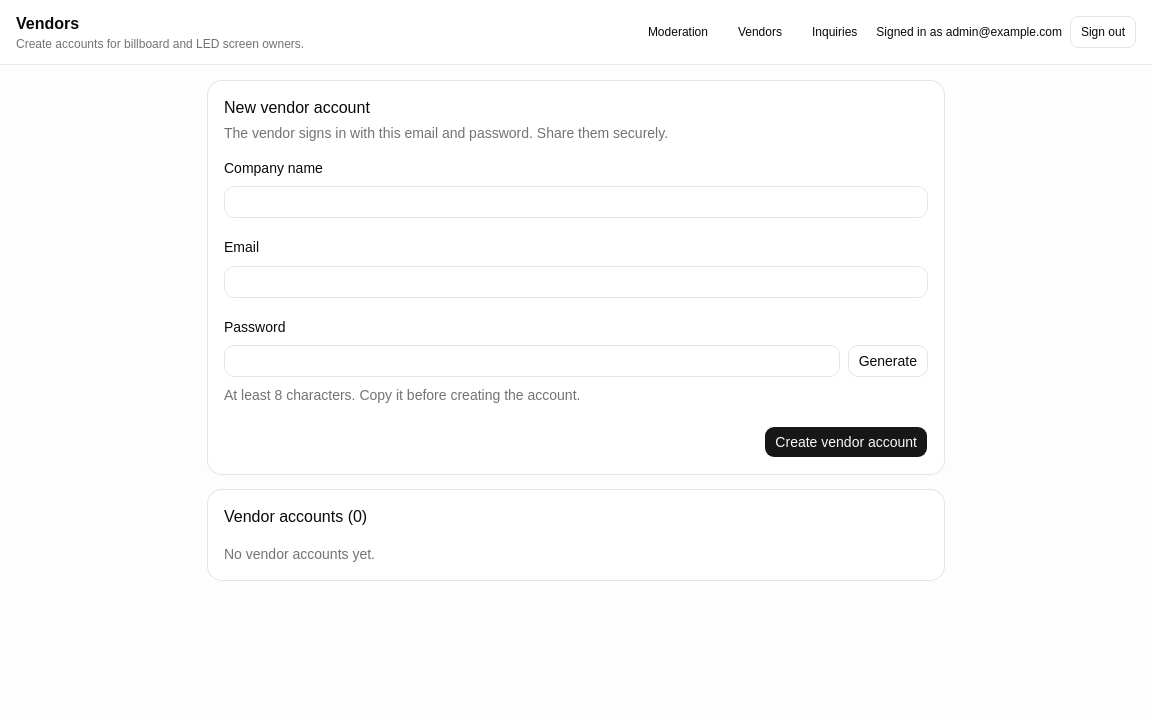
Scenario: AdminVendorsPage › validates with the shared schema before sending anything
The image size is (1152, 720).
Expected: the text "No vendor accounts yet." is shown, x1=224 y1=546 x2=375 y2=562
Type "Reklama Plus" into the field labelled "Company name" at (576, 202), box x1=224 y1=186 x2=928 y2=218
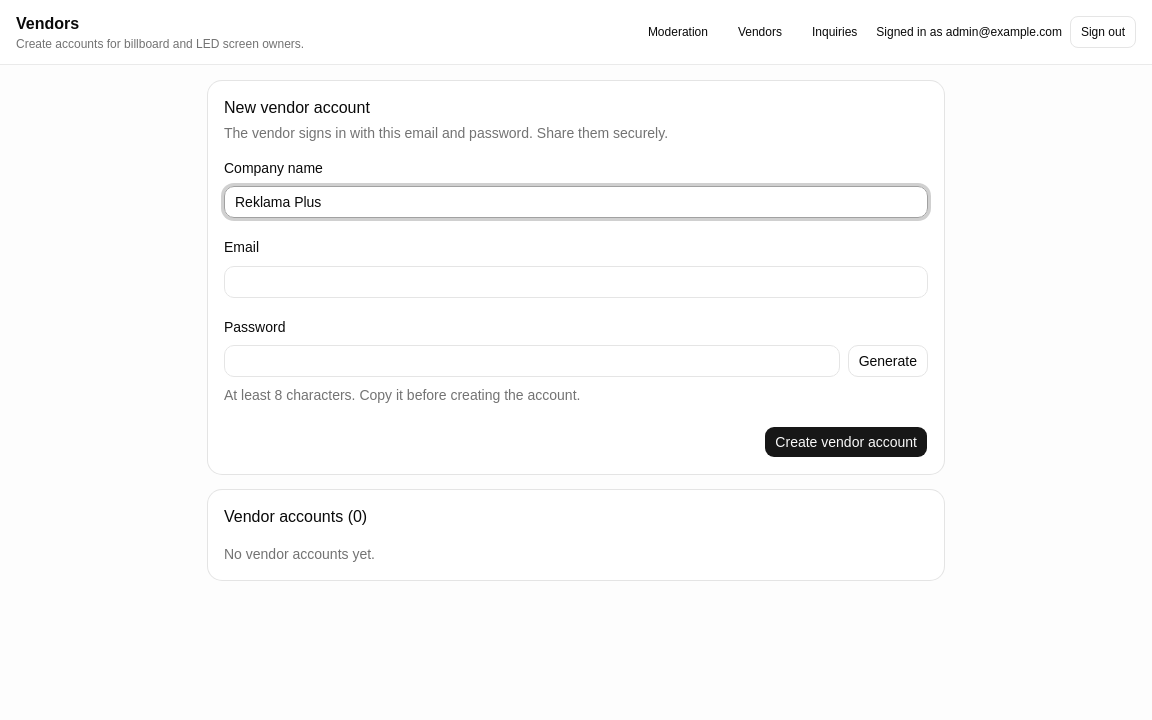
Type "sales@reklama.uz" into the field labelled "Email" at (576, 282), box x1=224 y1=266 x2=928 y2=298
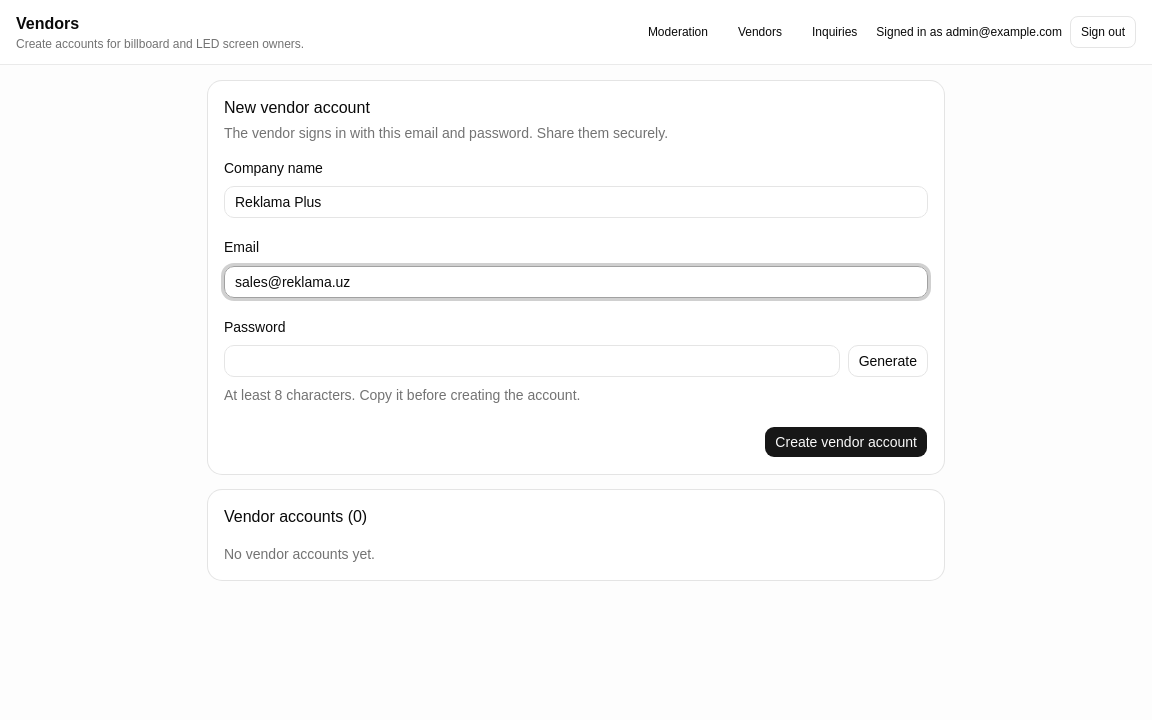
Type "short" into the password field labelled "Password" at (532, 361), box x1=224 y1=345 x2=840 y2=377
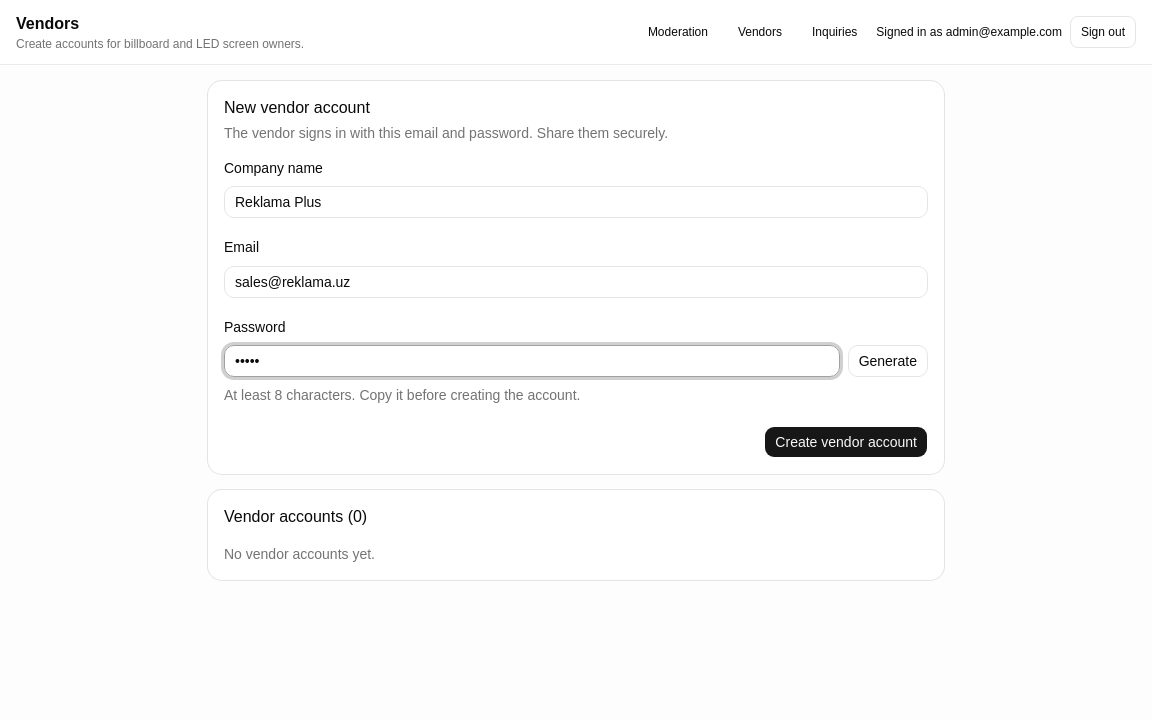
Clear the field labelled "Company name" at (576, 202), box x1=224 y1=186 x2=928 y2=218
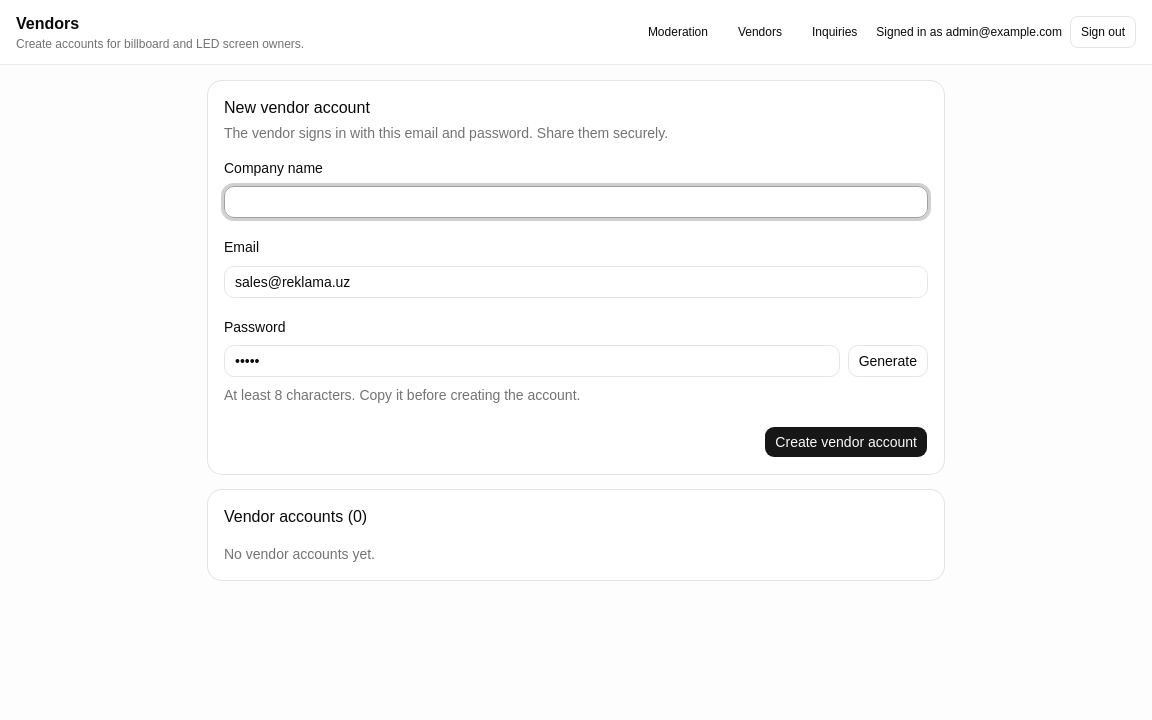
Click the button "Create vendor account" at (846, 442), box x1=764 y1=426 x2=928 y2=458
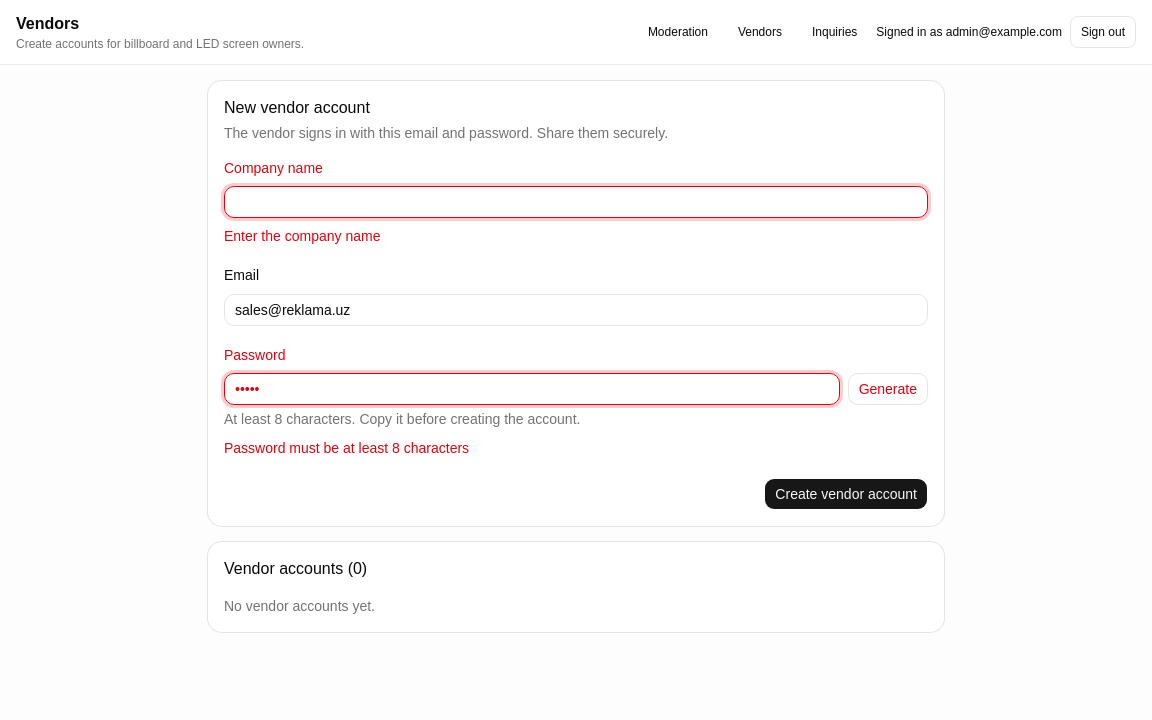
Expected: the text "Enter the company name" is shown, x1=224 y1=228 x2=380 y2=244
Expected: the text "Password must be at least 8 characters" is shown, x1=224 y1=440 x2=469 y2=456
